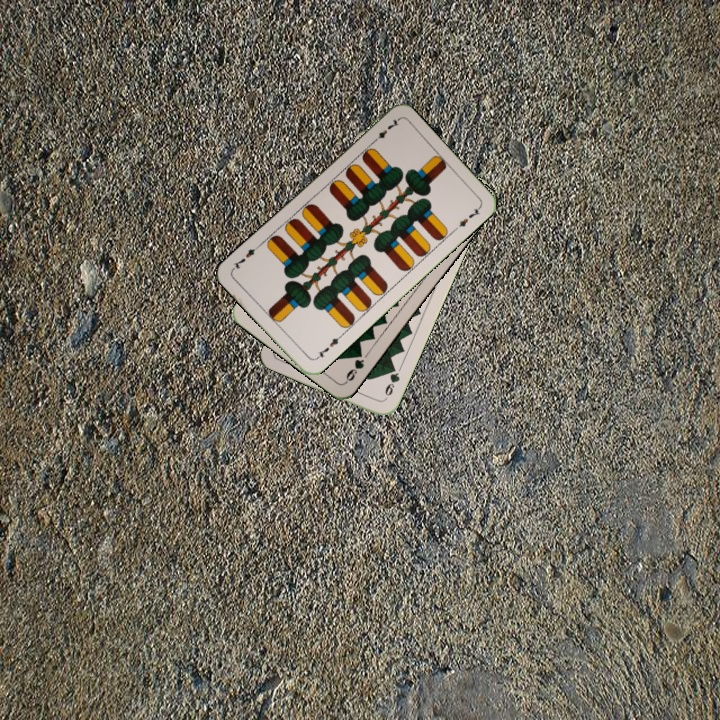E7: (368, 115, 402, 146), (311, 331, 344, 362)
G9: (341, 347, 367, 386), (380, 362, 402, 403)
